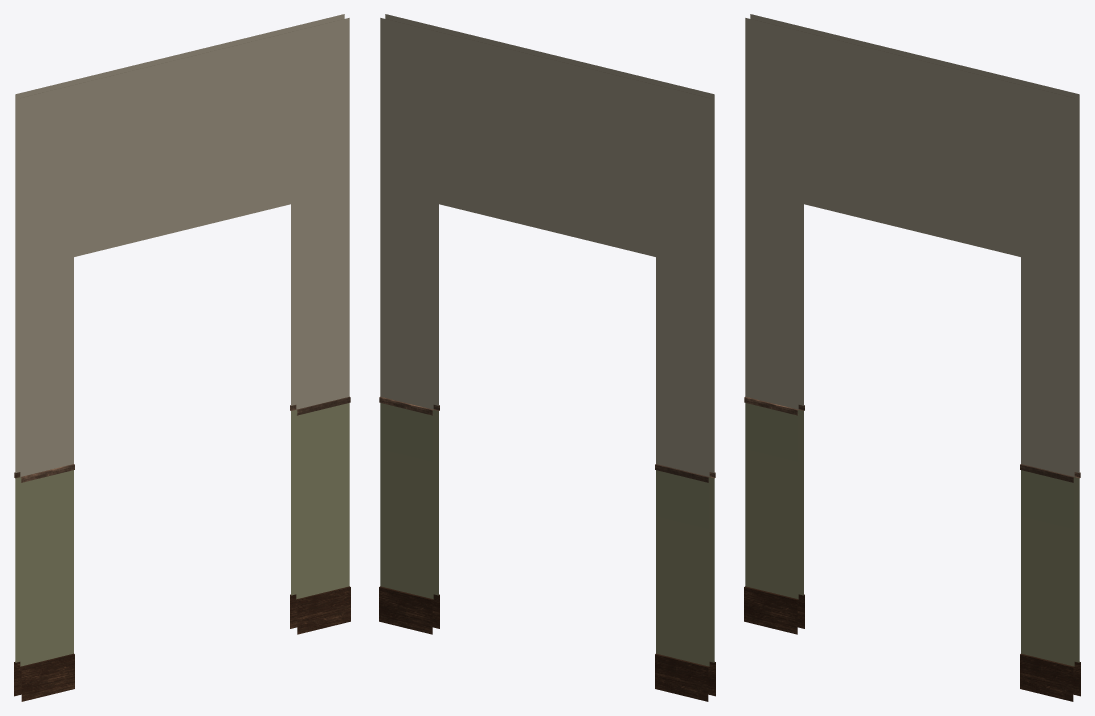
File: Doorframe_wall.fbx
3 renders of one model, left to right at view 1: azimuth 30°, elevation 25°; view 2: azimuth 150°, elevation 25°; view 3: azimuth 330°, elevation 25°, orthographic.
Visible parts, largest first — view 1: Single_Doorframe.004; view 2: Single_Doorframe.004; view 3: Single_Doorframe.004.
Boxes of the visible parts, x1,y1,x2,y2 form: Single_Doorframe.004: (14,14,350,701); Single_Doorframe.004: (379,14,715,701); Single_Doorframe.004: (744,14,1080,701).
Bounding box in the file's own units: 200 × 350 × 7.93.
